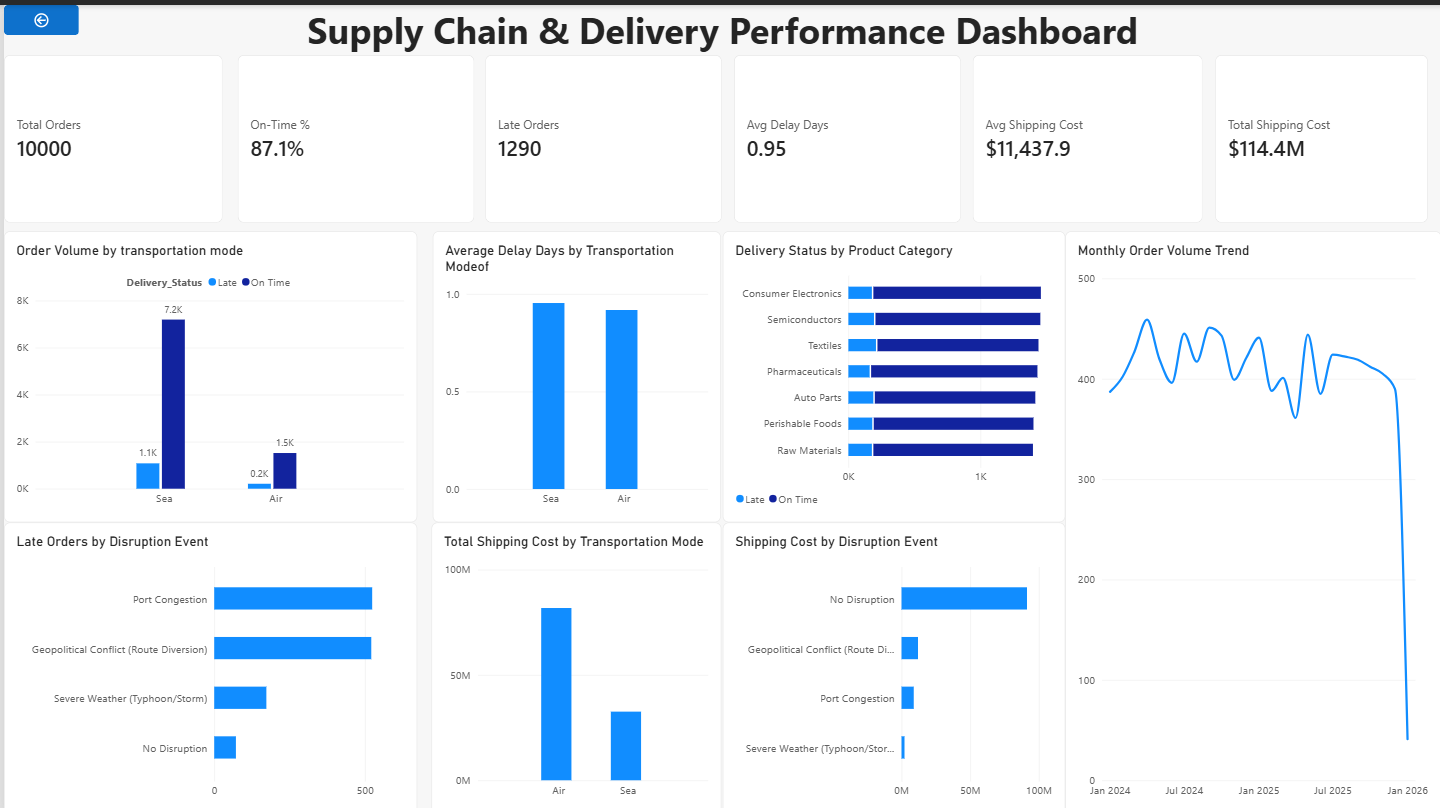

Layout of this report page (visuals, bound fields, positions):
{"tool":"powerbi","page":{"name":"Service","canvas":[1920,1080],"ordinal":0},"visuals":[{"type":"cardVisual","fields":{"Data":["Dax_Measures.Total Orders"]},"box":[0,66.3,292.9,224.5],"z":0},{"type":"cardVisual","fields":{"Data":["Dax_Measures.Late Orders"]},"box":[643.6,66.3,316.4,224.5],"z":1000},{"type":"cardVisual","fields":{"Data":["Dax_Measures.Avg Delay Days"]},"box":[975,66.3,303.6,224.5],"z":2000},{"type":"cardVisual","fields":{"Data":["Dax_Measures.Total Shipping Cost"]},"box":[1618.5,66.3,284.4,224.5],"z":3000},{"type":"cardVisual","fields":{"Data":["Dax_Measures.Avg Shipping Cost"]},"box":[1293.5,66.3,307.9,224.5],"z":4000},{"type":"cardVisual","fields":{"Data":["Dax_Measures.On-Time %"]},"box":[312.2,66.3,316.4,224.5],"z":5000},{"type":"clusteredColumnChart","title":"Order Volume by transportation mode","fields":{"Category":["Orders.Transportation_Mode"],"Series":["Orders.Delivery_Status"],"Y":["CountNonNull(Orders.Order_ID)"]},"box":[0,301.5,551.6,389.1],"z":6000},{"type":"clusteredBarChart","title":"Late Orders by Disruption Event","fields":{"Category":["Orders.Disruption_Event"],"Y":["CountNonNull(Orders.Order_ID)"]},"box":[0,690.6,551.6,389.1],"z":7000},{"type":"actionButton","box":[0,0,100,40],"z":8000},{"type":"clusteredColumnChart","title":"Average Delay Days by Transportation Modeof ","fields":{"Category":["Orders.Transportation_Mode"],"Y":["Avg(Orders.Delay_Days)"]},"box":[573,301.5,384.9,389.1],"z":9000},{"type":"clusteredColumnChart","title":"Total Shipping Cost by Transportation Mode","fields":{"Category":["Orders.Transportation_Mode"],"Y":["Sum(Orders.Shipping_Cost_USD)"]},"box":[570.9,690.6,387,389.1],"z":10000},{"type":"barChart","title":"Delivery Status by Product Category","fields":{"Category":["Orders.Product_Category"],"Series":["Orders.Delivery_Status"],"Y":["CountNonNull(Orders.Order_ID)"]},"box":[960,301.5,457.6,389.1],"z":11000},{"type":"clusteredBarChart","title":"Shipping Cost by Disruption Event","fields":{"Category":["Orders.Disruption_Event"],"Y":["Sum(Orders.Shipping_Cost_USD)"]},"box":[960,690.6,457.6,389.1],"z":12000},{"type":"lineChart","title":"Monthly Order Volume Trend","fields":{"Category":["Orders.Month"],"Y":["CountNonNull(Orders.Order_ID)"]},"box":[1417.6,301.5,502.4,778.3],"z":13000},{"type":"textbox","box":[0,0,1920,89.8],"z":13001}]}

Visuals, with their boxes in screenshot pixels (x1, y1, x2, y2), scaled from the page's 1920x1080 canvas onto the 1440x808 screenshot:
cardVisual - Dax_Measures.Total Orders: {"left": 0, "top": 50, "right": 220, "bottom": 218}
cardVisual - Dax_Measures.Late Orders: {"left": 483, "top": 50, "right": 720, "bottom": 218}
cardVisual - Dax_Measures.Avg Delay Days: {"left": 731, "top": 50, "right": 959, "bottom": 218}
cardVisual - Dax_Measures.Total Shipping Cost: {"left": 1214, "top": 50, "right": 1427, "bottom": 218}
cardVisual - Dax_Measures.Avg Shipping Cost: {"left": 970, "top": 50, "right": 1201, "bottom": 218}
cardVisual - Dax_Measures.On-Time %: {"left": 234, "top": 50, "right": 471, "bottom": 218}
"Order Volume by transportation mode" clusteredColumnChart: {"left": 0, "top": 226, "right": 414, "bottom": 517}
"Late Orders by Disruption Event" clusteredBarChart: {"left": 0, "top": 517, "right": 414, "bottom": 807}
actionButton: {"left": 0, "top": 0, "right": 75, "bottom": 30}
"Average Delay Days by Transportation Modeof " clusteredColumnChart: {"left": 430, "top": 226, "right": 718, "bottom": 517}
"Total Shipping Cost by Transportation Mode" clusteredColumnChart: {"left": 428, "top": 517, "right": 718, "bottom": 807}
"Delivery Status by Product Category" barChart: {"left": 720, "top": 226, "right": 1063, "bottom": 517}
"Shipping Cost by Disruption Event" clusteredBarChart: {"left": 720, "top": 517, "right": 1063, "bottom": 807}
"Monthly Order Volume Trend" lineChart: {"left": 1063, "top": 226, "right": 1439, "bottom": 807}
textbox: {"left": 0, "top": 0, "right": 1439, "bottom": 67}
